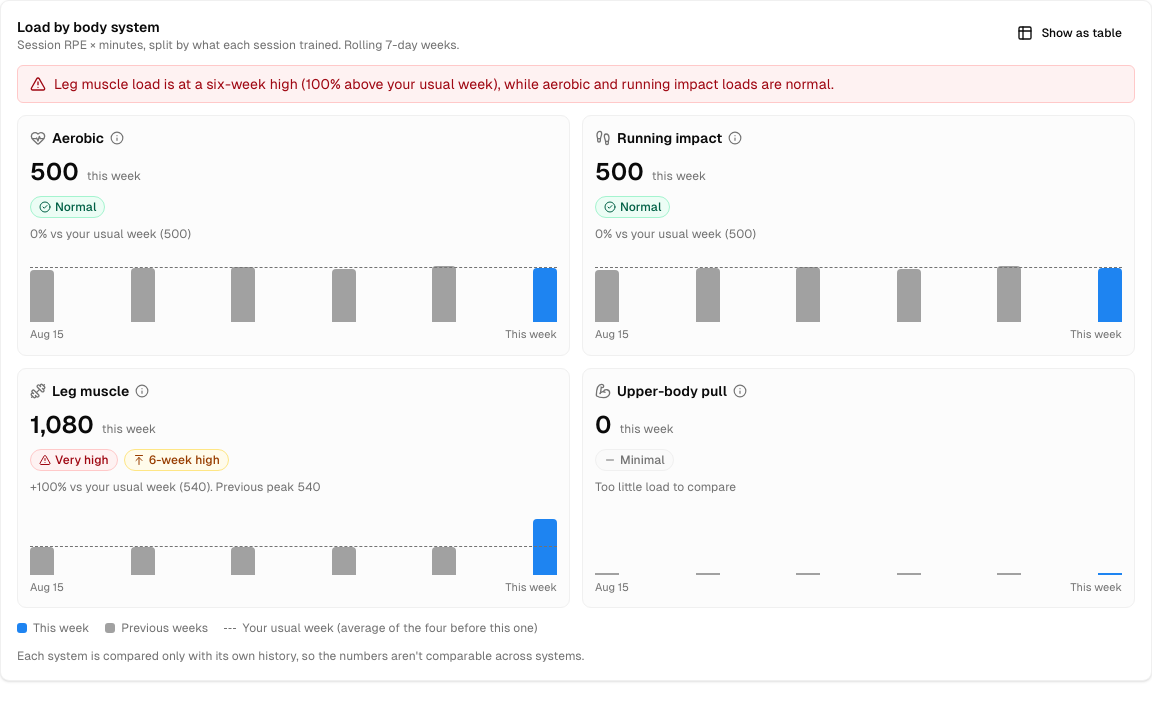
BodySystemLoadCard › offers every value as a table
Click the button with test id "body-system-table-toggle" at (1070, 33), box [1004, 17, 1135, 49]
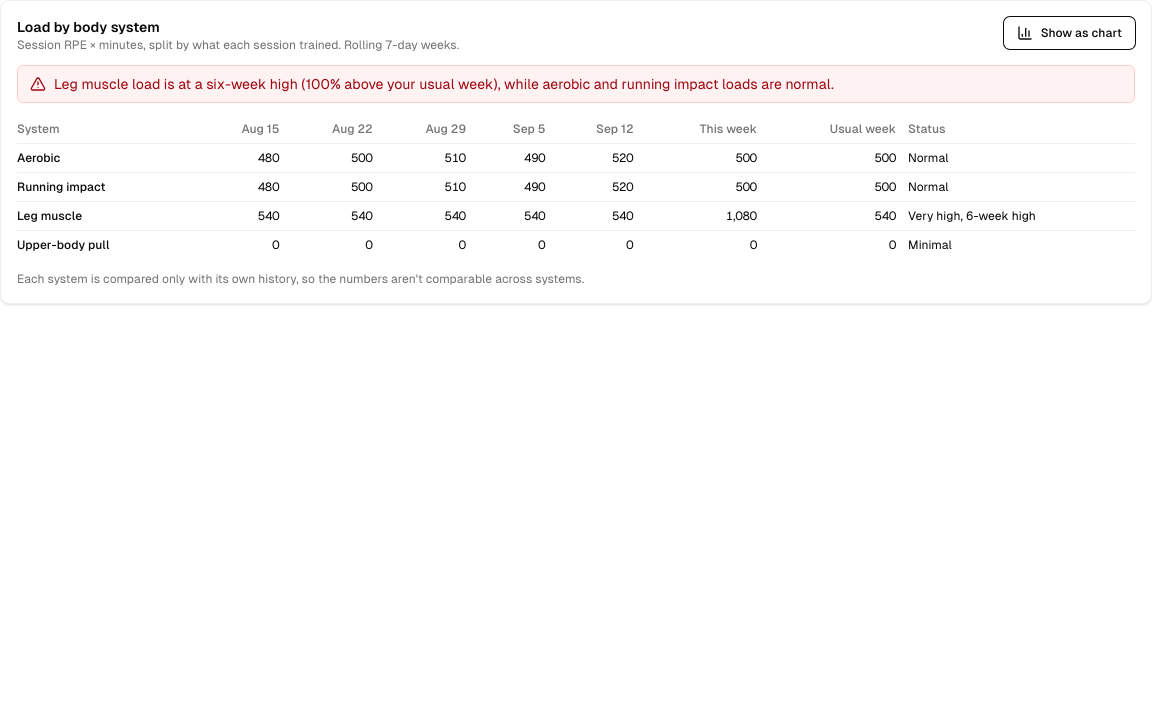
Expected: the row "Leg muscle" shows "1,080", [726, 209, 757, 223]
Expected: the row "Leg muscle" shows "Very high, 6-week high", [17, 202, 1135, 230]
Expected: the button with test id "body-system-table-toggle" is expanded, [1004, 17, 1135, 49]
